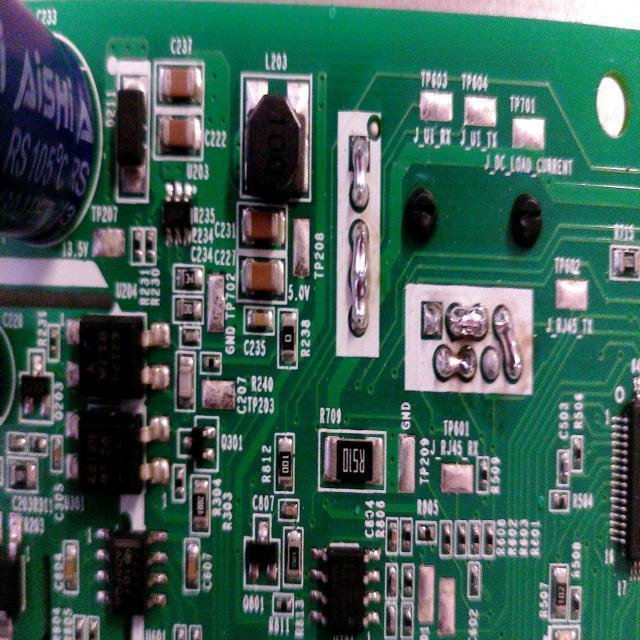Soldering shorted: (348, 218, 374, 340), (492, 301, 525, 390), (433, 343, 481, 386), (444, 298, 488, 344), (350, 133, 370, 214)
